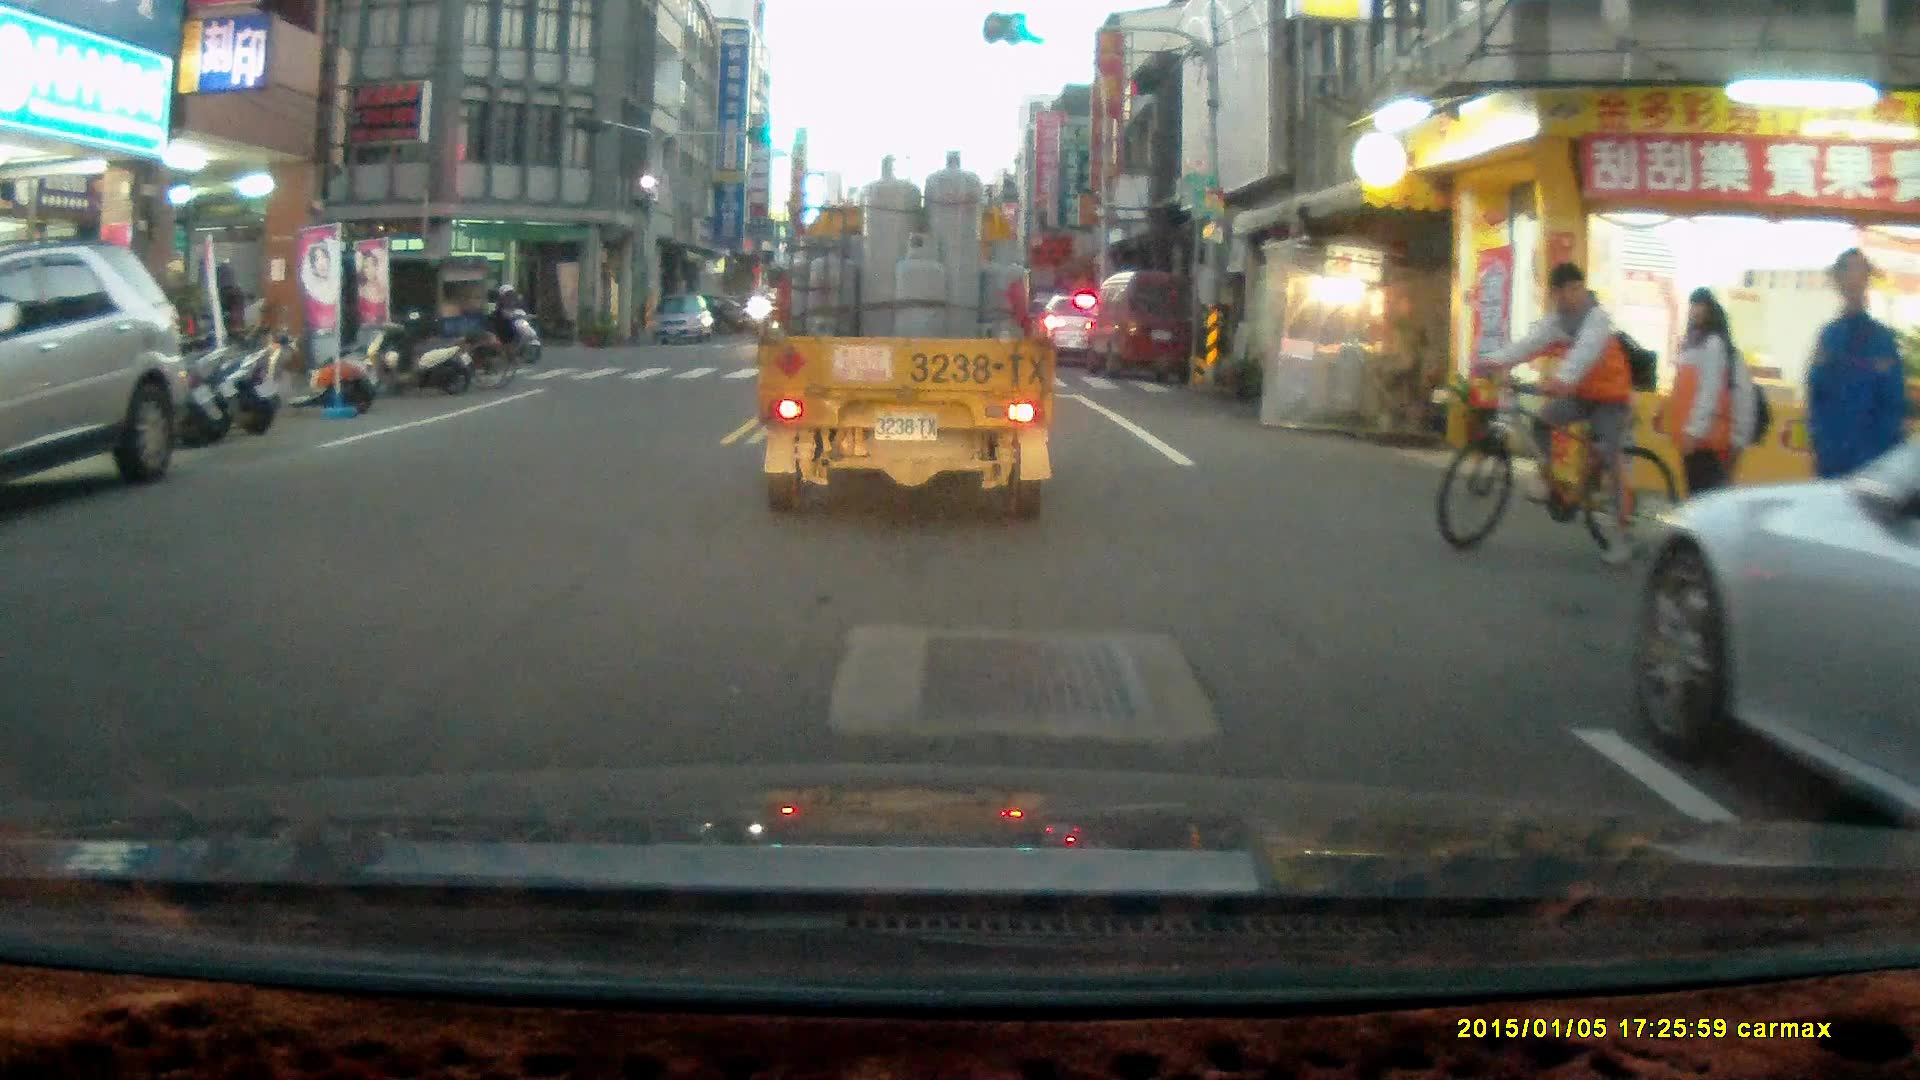pedestrian: (1802, 247, 1899, 578), (1663, 285, 1734, 567), (211, 262, 247, 371)
rider: (1436, 263, 1676, 567), (469, 282, 536, 368)
vehicle: (1630, 430, 1920, 828), (753, 161, 1042, 519), (1, 243, 193, 505), (333, 247, 494, 365), (1087, 267, 1203, 383), (1038, 293, 1105, 364), (650, 292, 718, 350)
